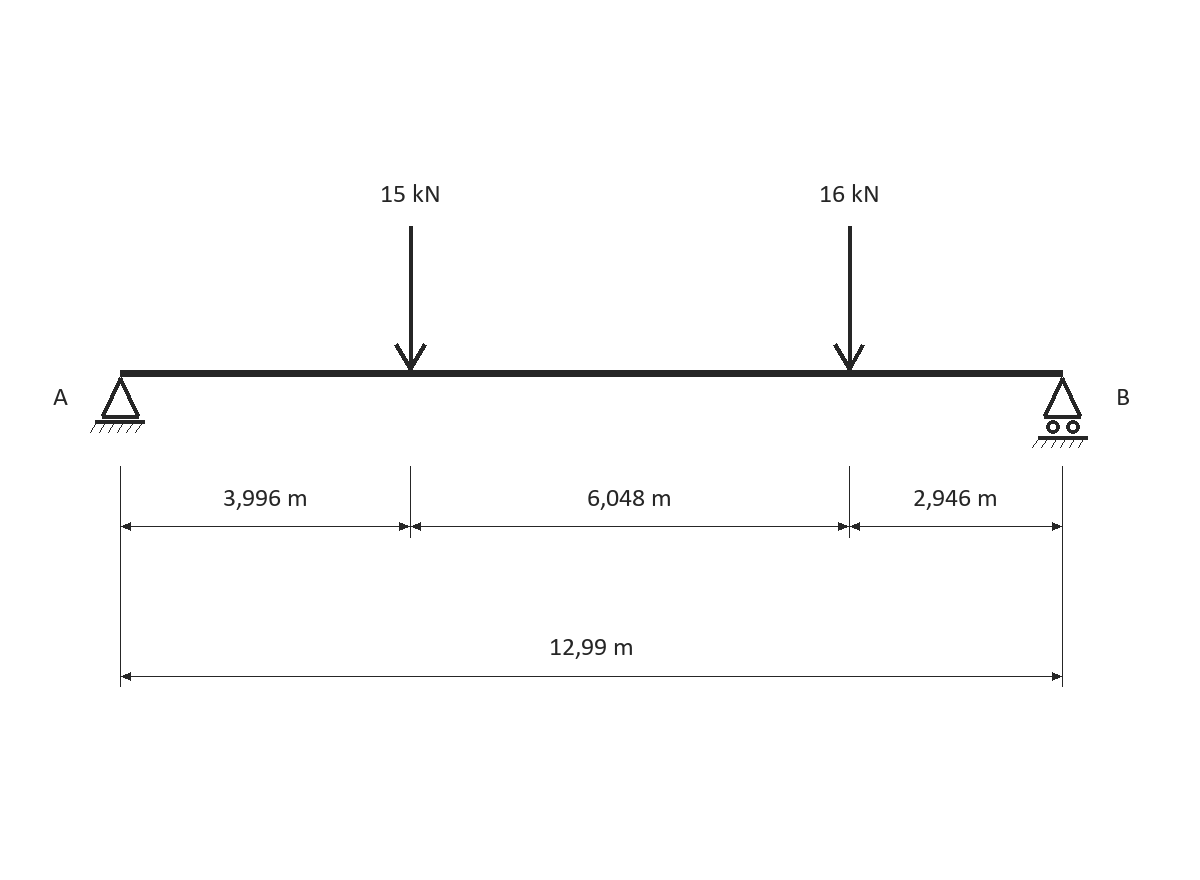pin_support: (90, 377, 145, 433)
point_load: (394, 226, 427, 371), (833, 226, 865, 371)
roller_support: (1032, 377, 1088, 448)
